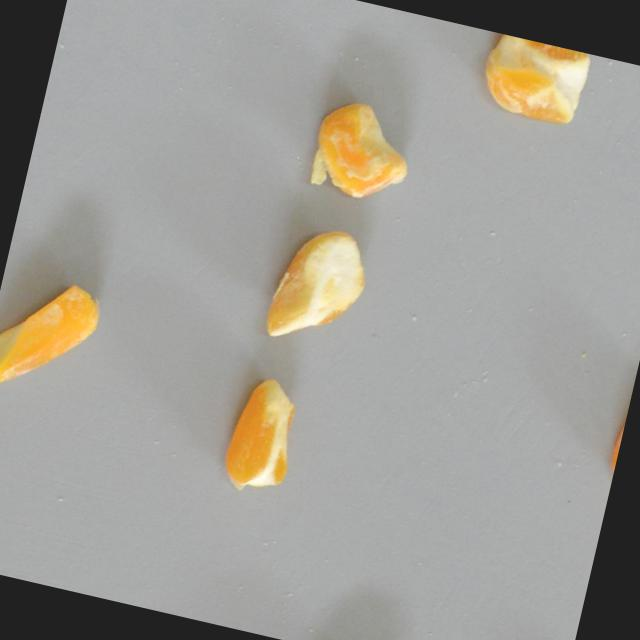dañado: (589, 371, 636, 504)
pelicula: (257, 214, 379, 357), (294, 92, 420, 217), (473, 31, 595, 137), (216, 369, 309, 500)
punto_negro: (0, 265, 110, 405)
